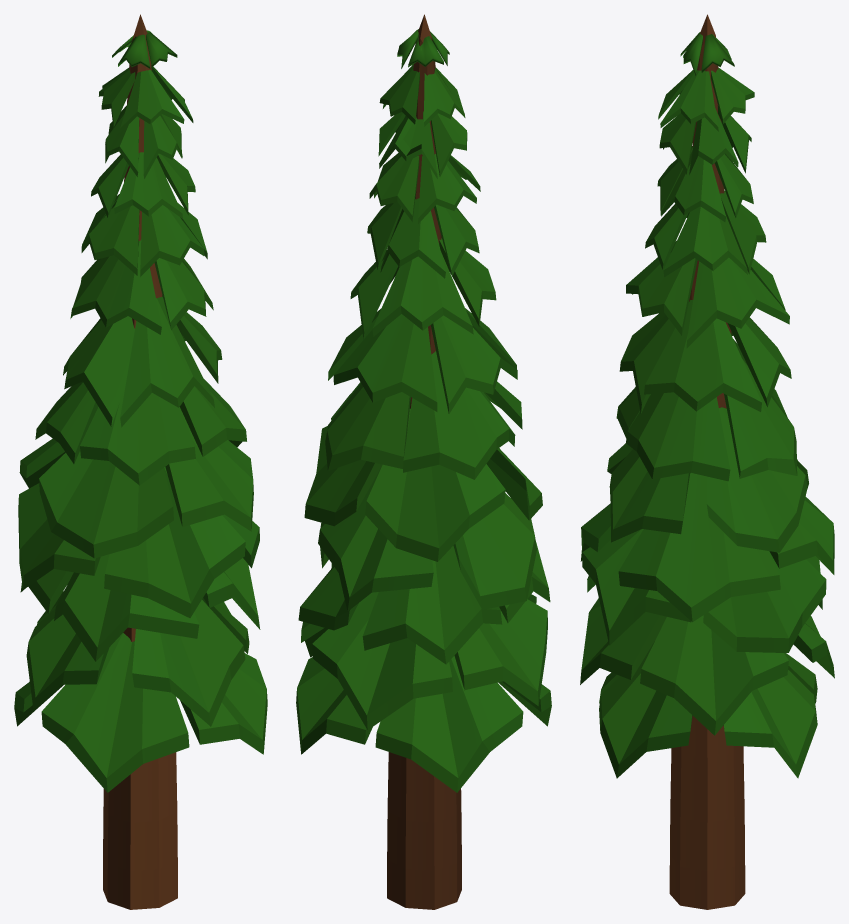
File: Silverneedle_Pine_T_var2.glb
The picture shows the model from 3 angles, left to right: view 1: azimuth 30°, elevation 25°; view 2: azimuth 150°, elevation 25°; view 3: azimuth 270°, elevation 25°; orthographic projection.
Parts seen in each view (by area): view 1: Pine_leaves, Full_Tree; view 2: Pine_leaves, Full_Tree; view 3: Pine_leaves, Full_Tree.
Boxes of the visible parts, x1=… form: Pine_leaves: x1=14, y1=30, x2=267, y2=792; Full_Tree: x1=103, y1=14, x2=177, y2=909; Pine_leaves: x1=296, y1=29, x2=551, y2=792; Full_Tree: x1=387, y1=14, x2=461, y2=909; Pine_leaves: x1=580, y1=32, x2=834, y2=778; Full_Tree: x1=669, y1=14, x2=745, y2=909.
Bounding box in the file's own units: 6.2 × 23.6 × 6.19.
1 material, 1 textured.
